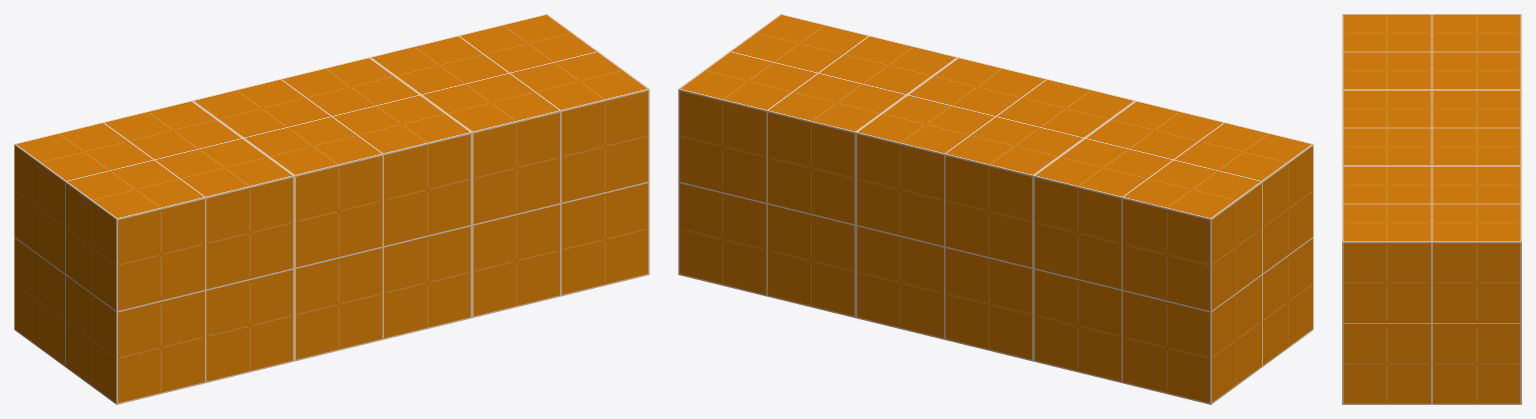
The model's file is Block_3x1x1.obj.
3 views of the same model, side by side, from view 1: azimuth 30°, elevation 25°; view 2: azimuth 150°, elevation 25°; view 3: azimuth 270°, elevation 25° (orthographic). The views are drawn at different scales.
Visible parts, largest first — view 1: Block_3x1x1_Cube.172; view 2: Block_3x1x1_Cube.172; view 3: Block_3x1x1_Cube.172.
Boxes of the visible parts, box(x1,y1,x2,y2) form: Block_3x1x1_Cube.172: box(14, 14, 649, 404); Block_3x1x1_Cube.172: box(678, 14, 1313, 404); Block_3x1x1_Cube.172: box(1342, 14, 1521, 404).
Size of the model in its own units: 3 by 1 by 1.
1 material, 1 textured.
